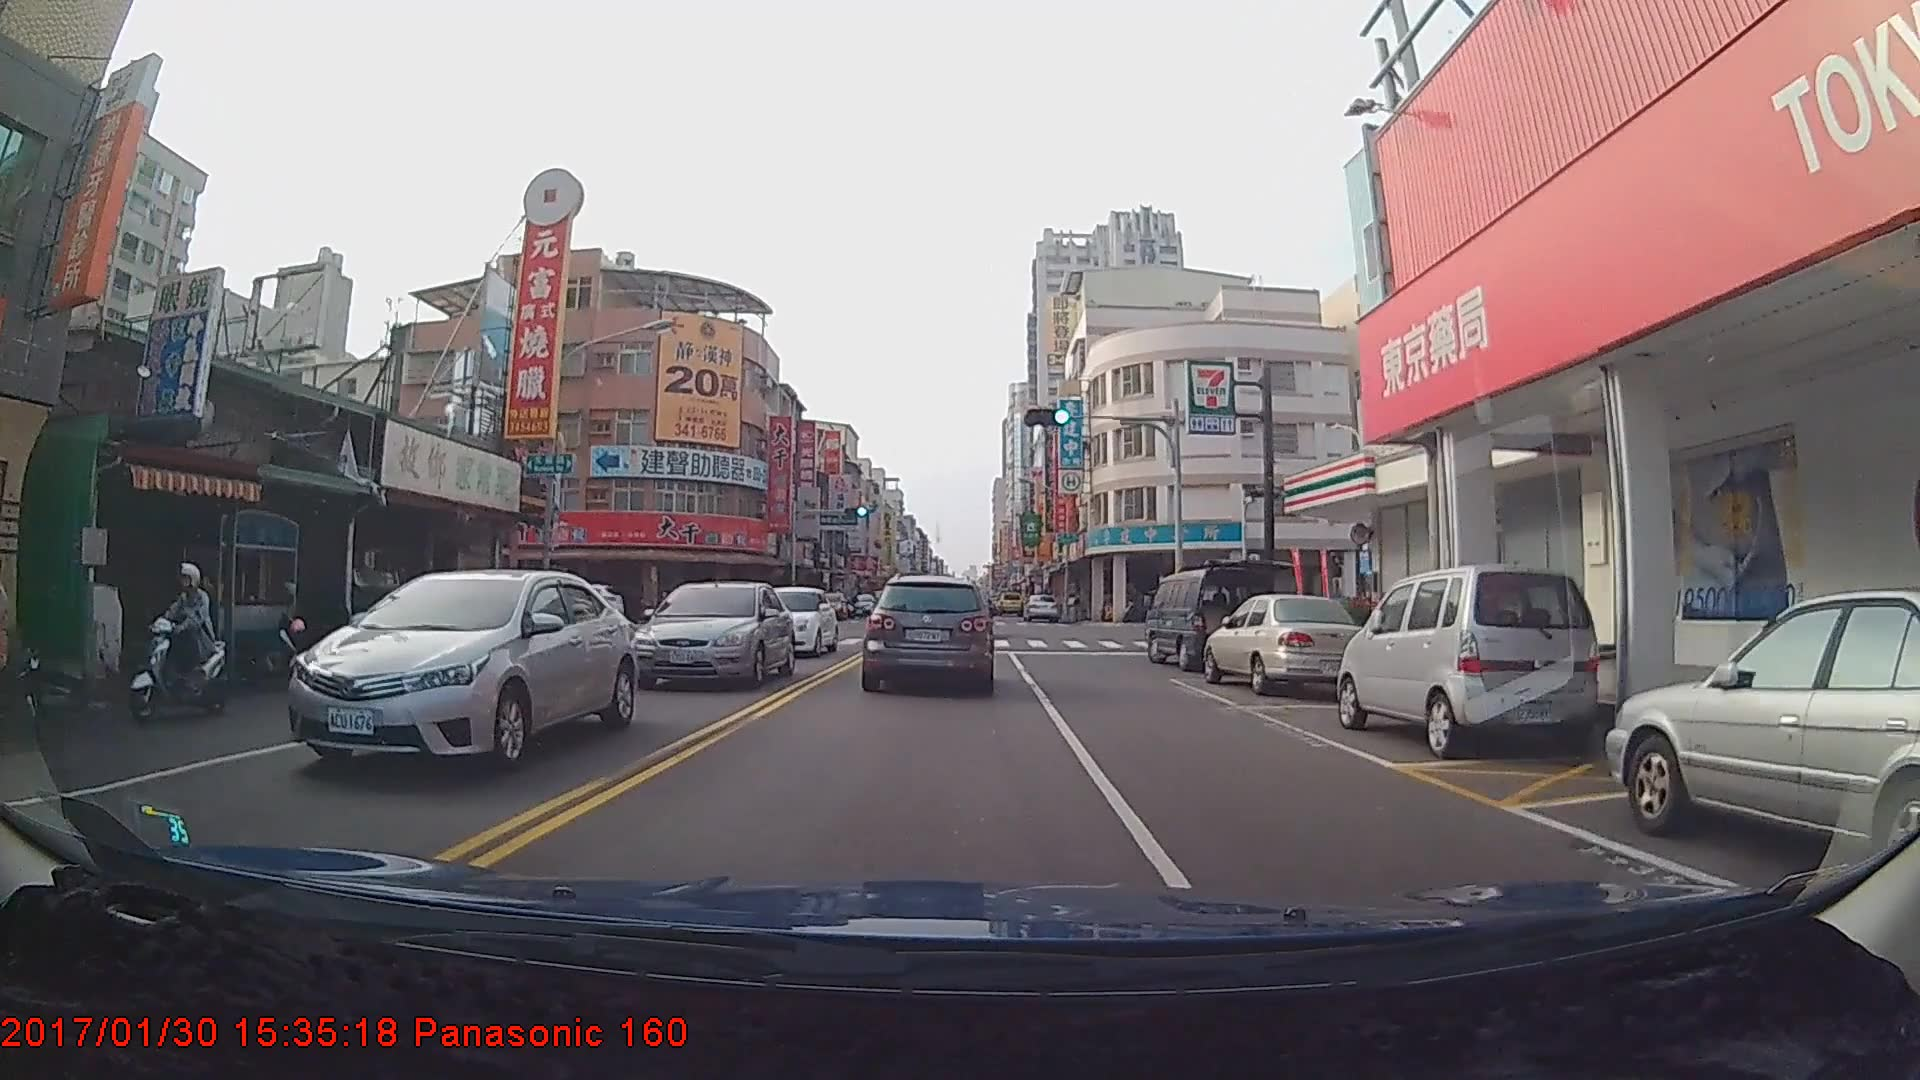rider: (122, 559, 239, 723)
vehicle: (1607, 590, 1920, 890), (282, 566, 647, 788), (1338, 560, 1593, 761), (634, 578, 794, 691), (1203, 593, 1362, 698), (863, 572, 993, 692), (1143, 568, 1277, 671), (752, 584, 839, 655), (1021, 592, 1060, 621), (811, 588, 845, 620), (995, 591, 1024, 612)
